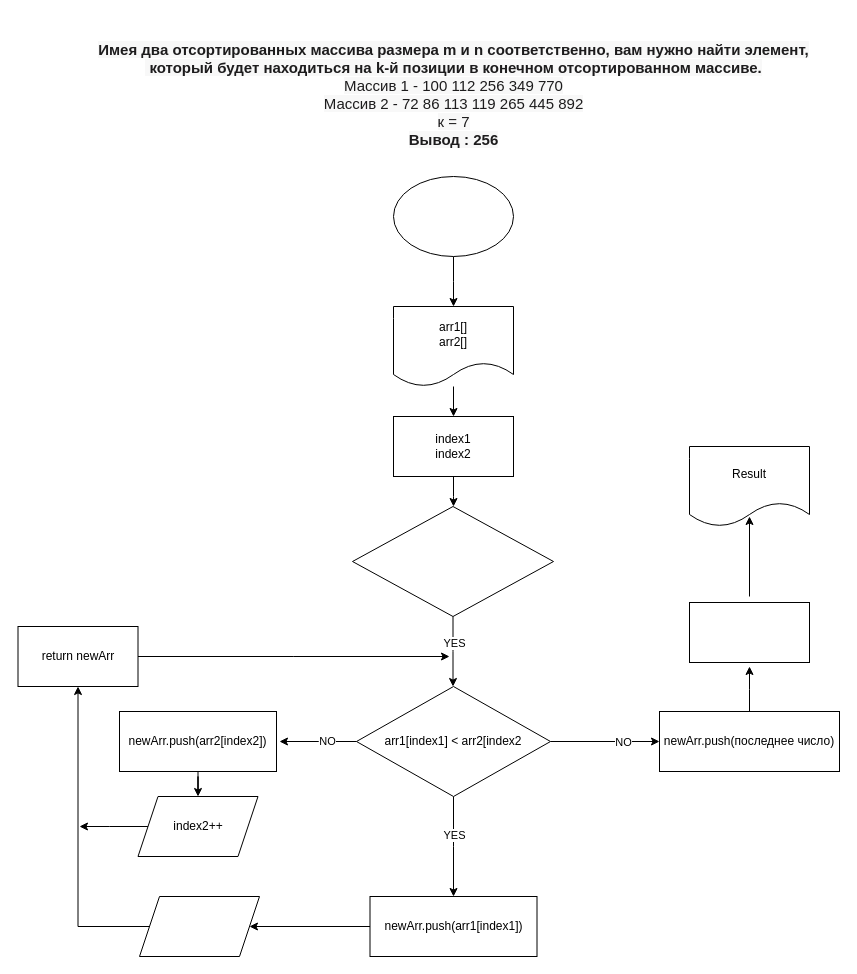
Some shapes in this 857 by 974 pixel diagram are drawn without their labels. The centre of each missing label's shape, as x and y in pixels:
index1 < arr1.length || index2 < arr2.length: the point at 453,561
index1++: the point at 199,926
newArr[k-1]: the point at 749,632
START: the point at 453,216
